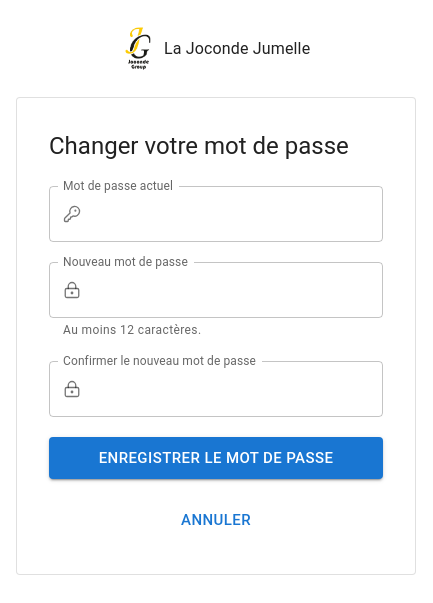
Test: ChangePasswordPage — mode volontaire (spec 005, FR-007, FR-008) › affiche sous le champ le refus du serveur pour un mot de passe actuel faux
Type "Faux-mot-de-passe-2026" into the password field labelled "Mot de passe actuel" at x=236, y=214, box [89, 186, 383, 242]
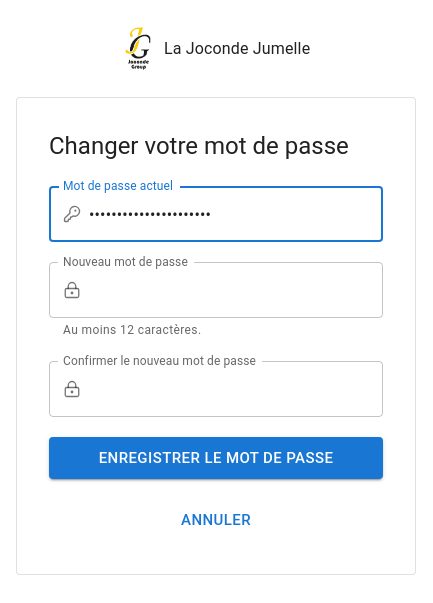
Type "Nouveau-mot-de-passe-2026" into the password field labelled "Nouveau mot de passe" at x=236, y=290, box [89, 262, 383, 318]
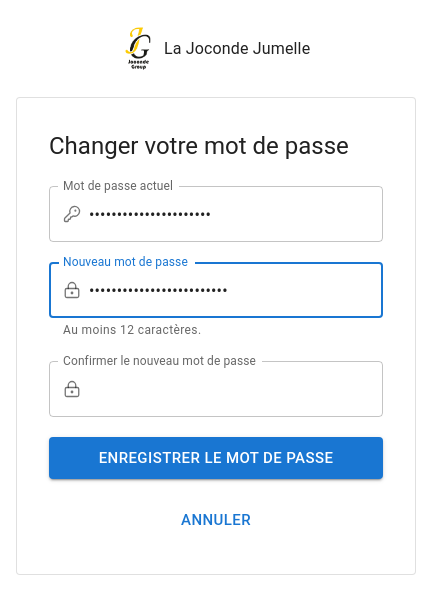
Type "Nouveau-mot-de-passe-2026" into the password field labelled "Confirmer le nouveau mot de passe" at x=236, y=389, box [89, 361, 383, 417]
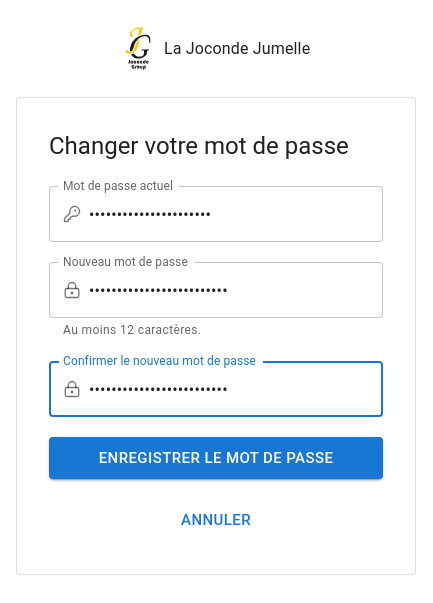
Click the button "Enregistrer le mot de passe" at x=216, y=458, box [49, 437, 383, 480]
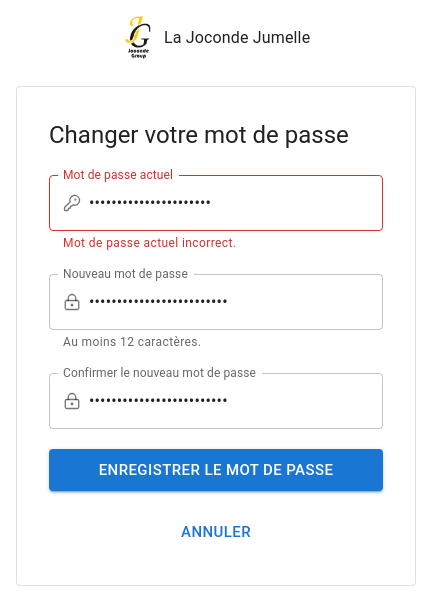
Expected: the text "Mot de passe actuel incorrect." is shown, [63, 236, 236, 250]
